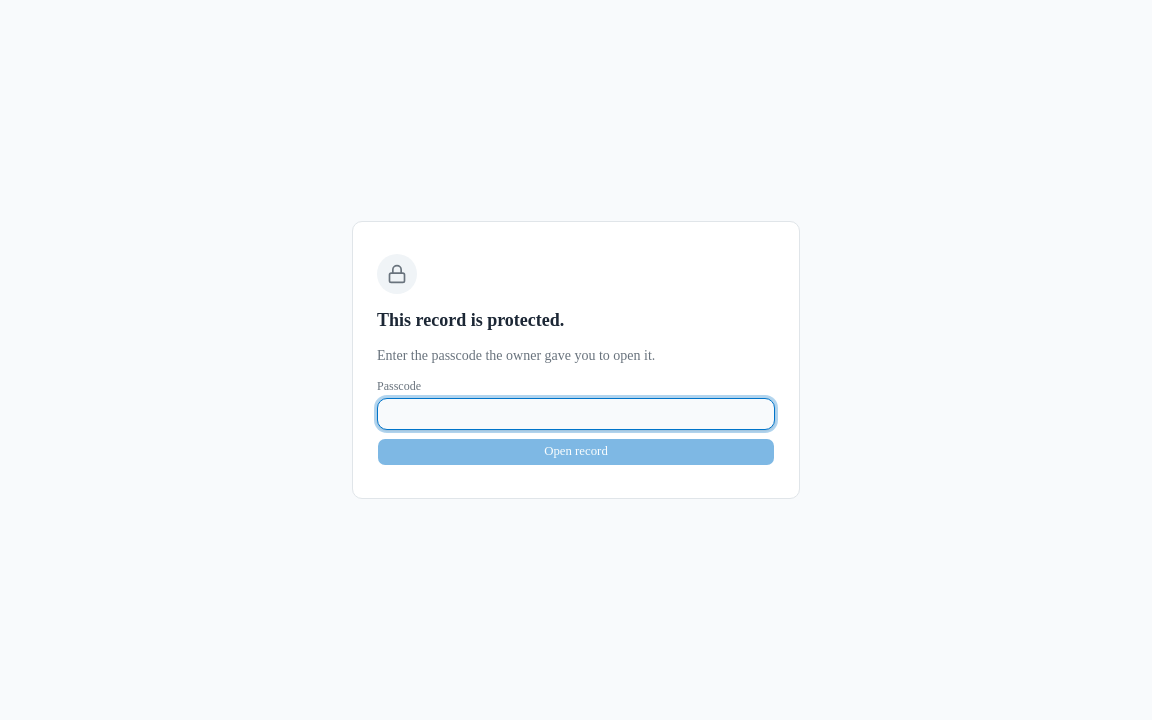
Test: SharedUnlockGate › shows the prompt first and unlocks into the record
Type "swordfish" into the password field with test id "share-passcode-input". click: (576, 414)
box: [377, 398, 775, 430]
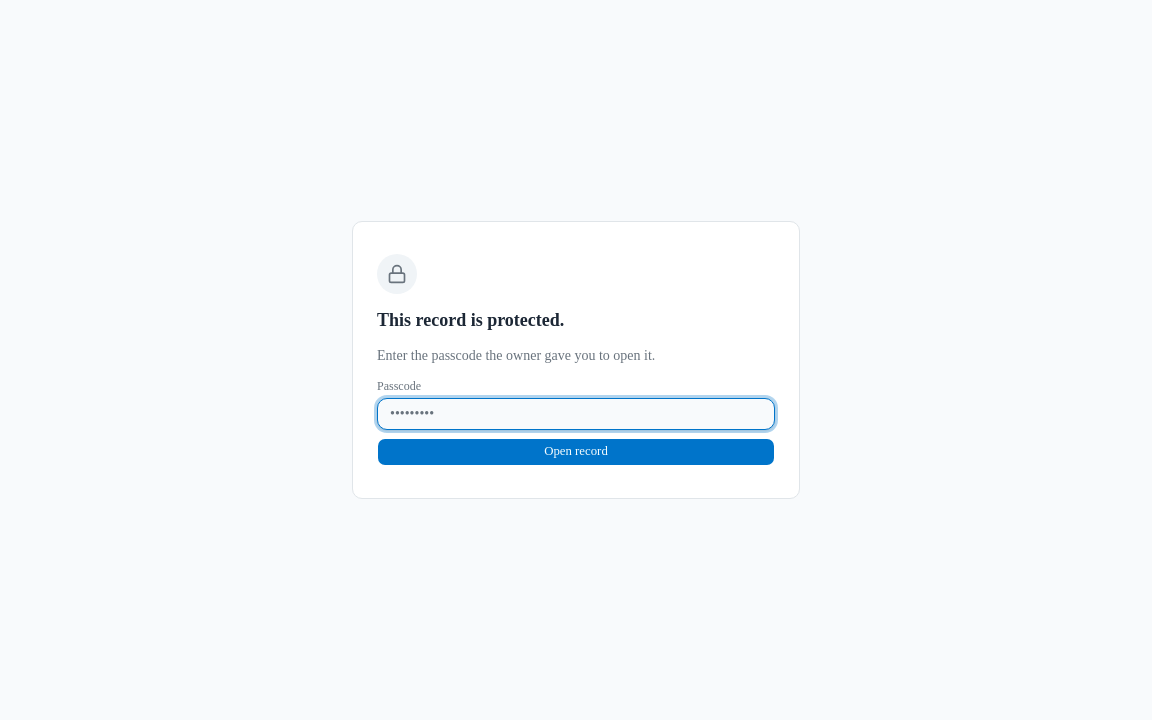
Click the button "Open record". click: (576, 452)
box: [377, 438, 775, 466]
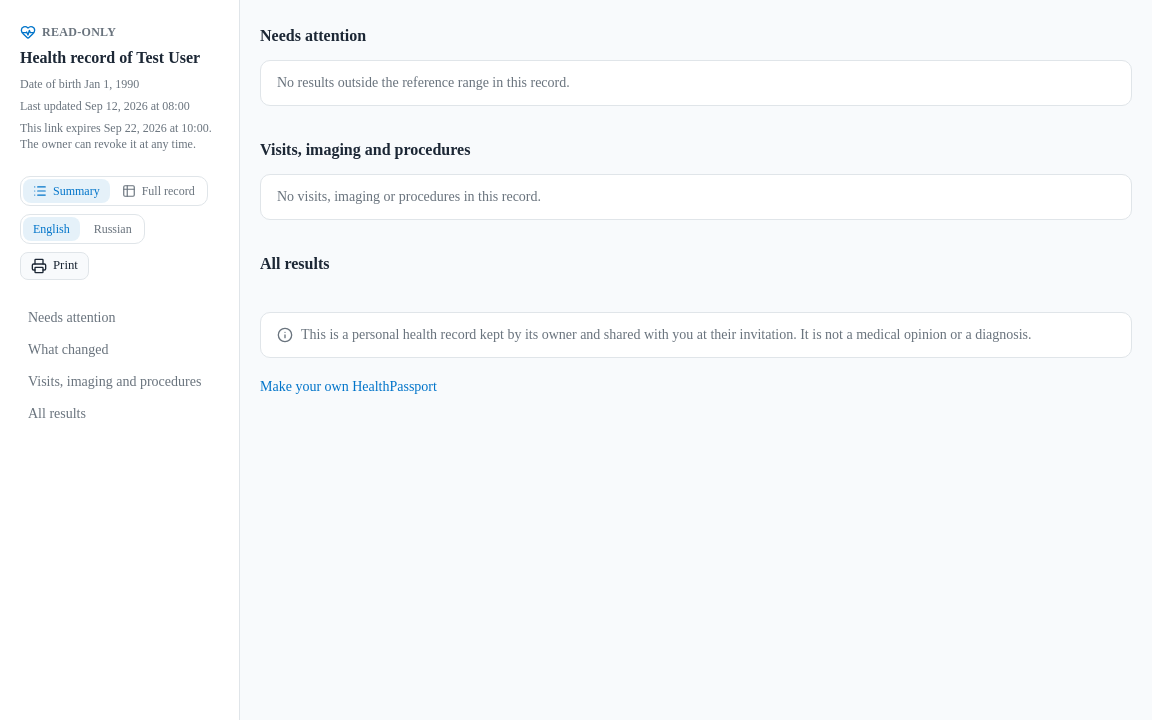
Expected: the heading "Health record of Test User" is shown, [20, 46, 219, 70]
